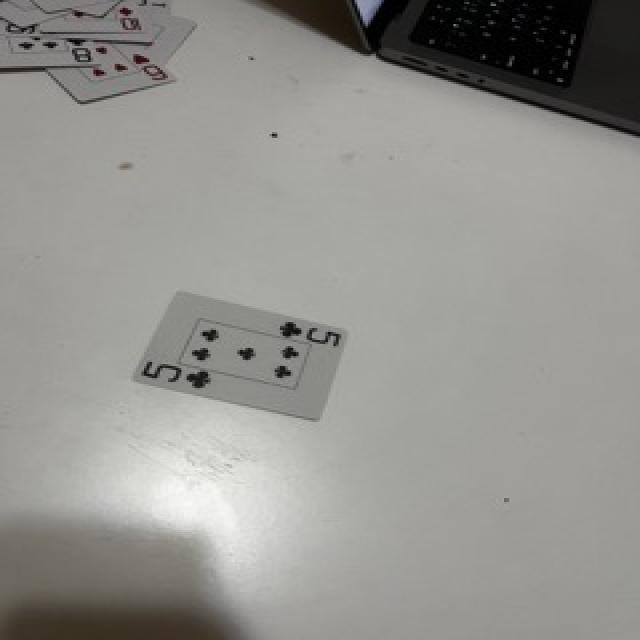5 of clubs: (135, 291, 345, 419)
